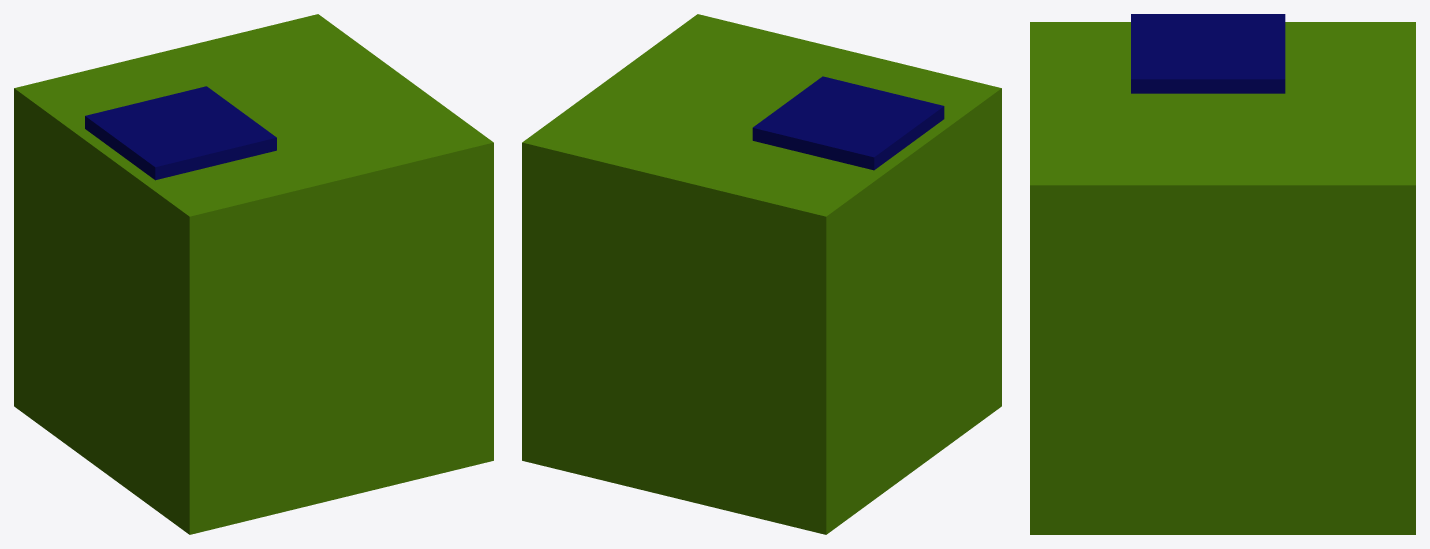
Rendered from bot.obj.
3 renders of one model, left to right at view 1: azimuth 30°, elevation 25°; view 2: azimuth 150°, elevation 25°; view 3: azimuth 270°, elevation 25°, orthographic. The views are drawn at different scales.
Parts seen in each view (by area): view 1: Mesh_Mesh.005_Cube.006, Mesh.001_Cube_Cube.007; view 2: Mesh_Mesh.005_Cube.006, Mesh.001_Cube_Cube.007; view 3: Mesh_Mesh.005_Cube.006, Mesh.001_Cube_Cube.007.
Boxes of the visible parts, x1=… form: Mesh_Mesh.005_Cube.006: x1=14, y1=14, x2=493, y2=534; Mesh.001_Cube_Cube.007: x1=85, y1=86, x2=276, y2=180; Mesh_Mesh.005_Cube.006: x1=522, y1=14, x2=1001, y2=534; Mesh.001_Cube_Cube.007: x1=752, y1=76, x2=944, y2=170; Mesh_Mesh.005_Cube.006: x1=1030, y1=22, x2=1415, y2=534; Mesh.001_Cube_Cube.007: x1=1131, y1=14, x2=1285, y2=93.
Size of the model in its own units: 0.25 by 0.2602 by 0.25.
